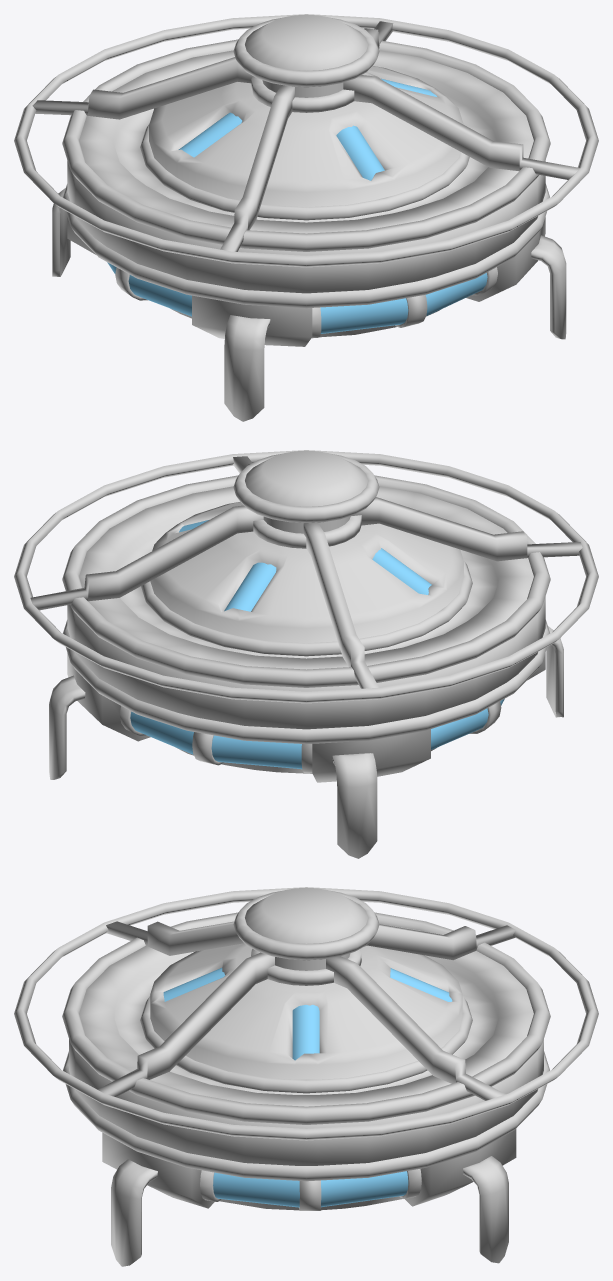
File: SM_StunMine_00.fbx
The picture shows the model from 3 angles, top to bottom: view 1: azimuth 30°, elevation 25°; view 2: azimuth 150°, elevation 25°; view 3: azimuth 270°, elevation 25°; orthographic projection.
Parts seen in each view (by area): view 1: SM_StunMine_00; view 2: SM_StunMine_00; view 3: SM_StunMine_00.
Part boxes in pixels (x1,y1,x2,y2): SM_StunMine_00: (14, 14, 598, 421); SM_StunMine_00: (14, 450, 598, 858); SM_StunMine_00: (14, 887, 598, 1266).
Bounding box in the file's own units: 90.92 × 47.84 × 90.92.
